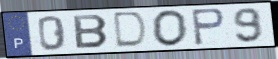0: (36, 14, 66, 52)
9: (233, 7, 266, 44)
B: (71, 14, 111, 50)
D: (113, 10, 150, 49)
O: (150, 9, 190, 48)
P: (189, 7, 227, 47)
